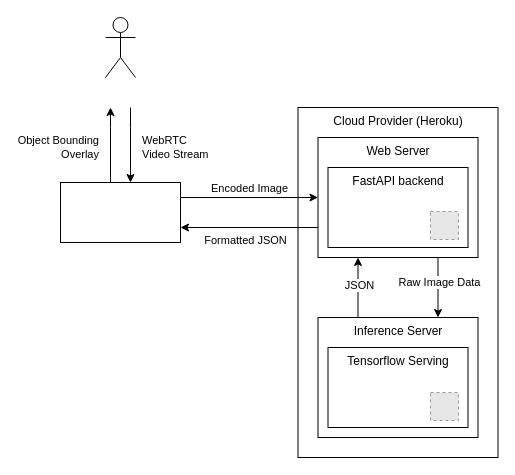
This 515x475 diagram has some shape labels left out. Grey dashed boxes stand in for pictures. Here are the shapes that lost their labels. From the top down, the centre of each, then its label:
[120,47]: User
[120,212]: Client Application
